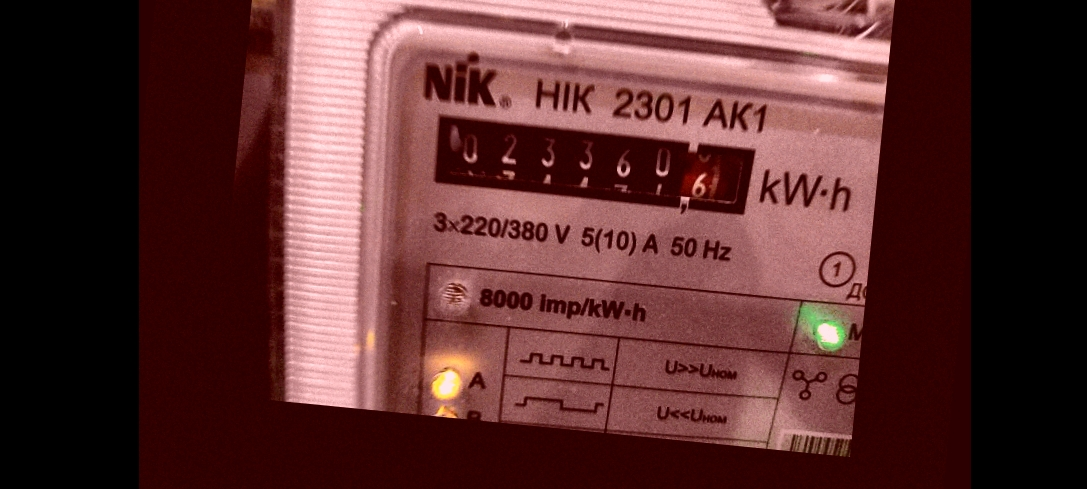0: (457, 128, 483, 165), (650, 143, 675, 180)
2: (497, 130, 522, 166)
3: (536, 133, 560, 170), (575, 136, 596, 172)
6: (612, 143, 635, 179), (688, 165, 709, 200)
screen: (417, 101, 776, 234)
